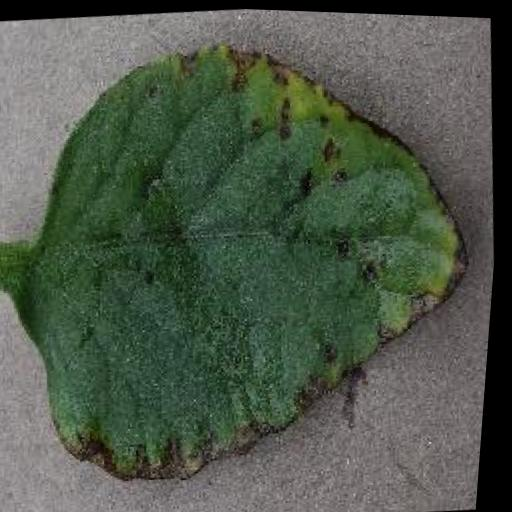Bacterial Spot: (0, 15, 504, 504)
